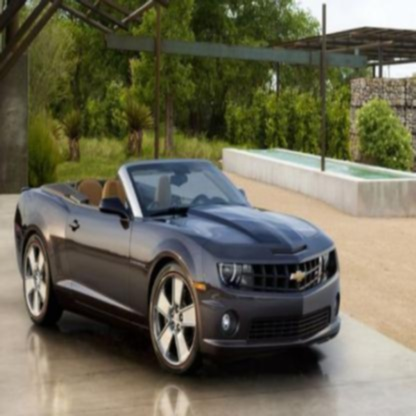Vehicle: (13, 154, 345, 373)
